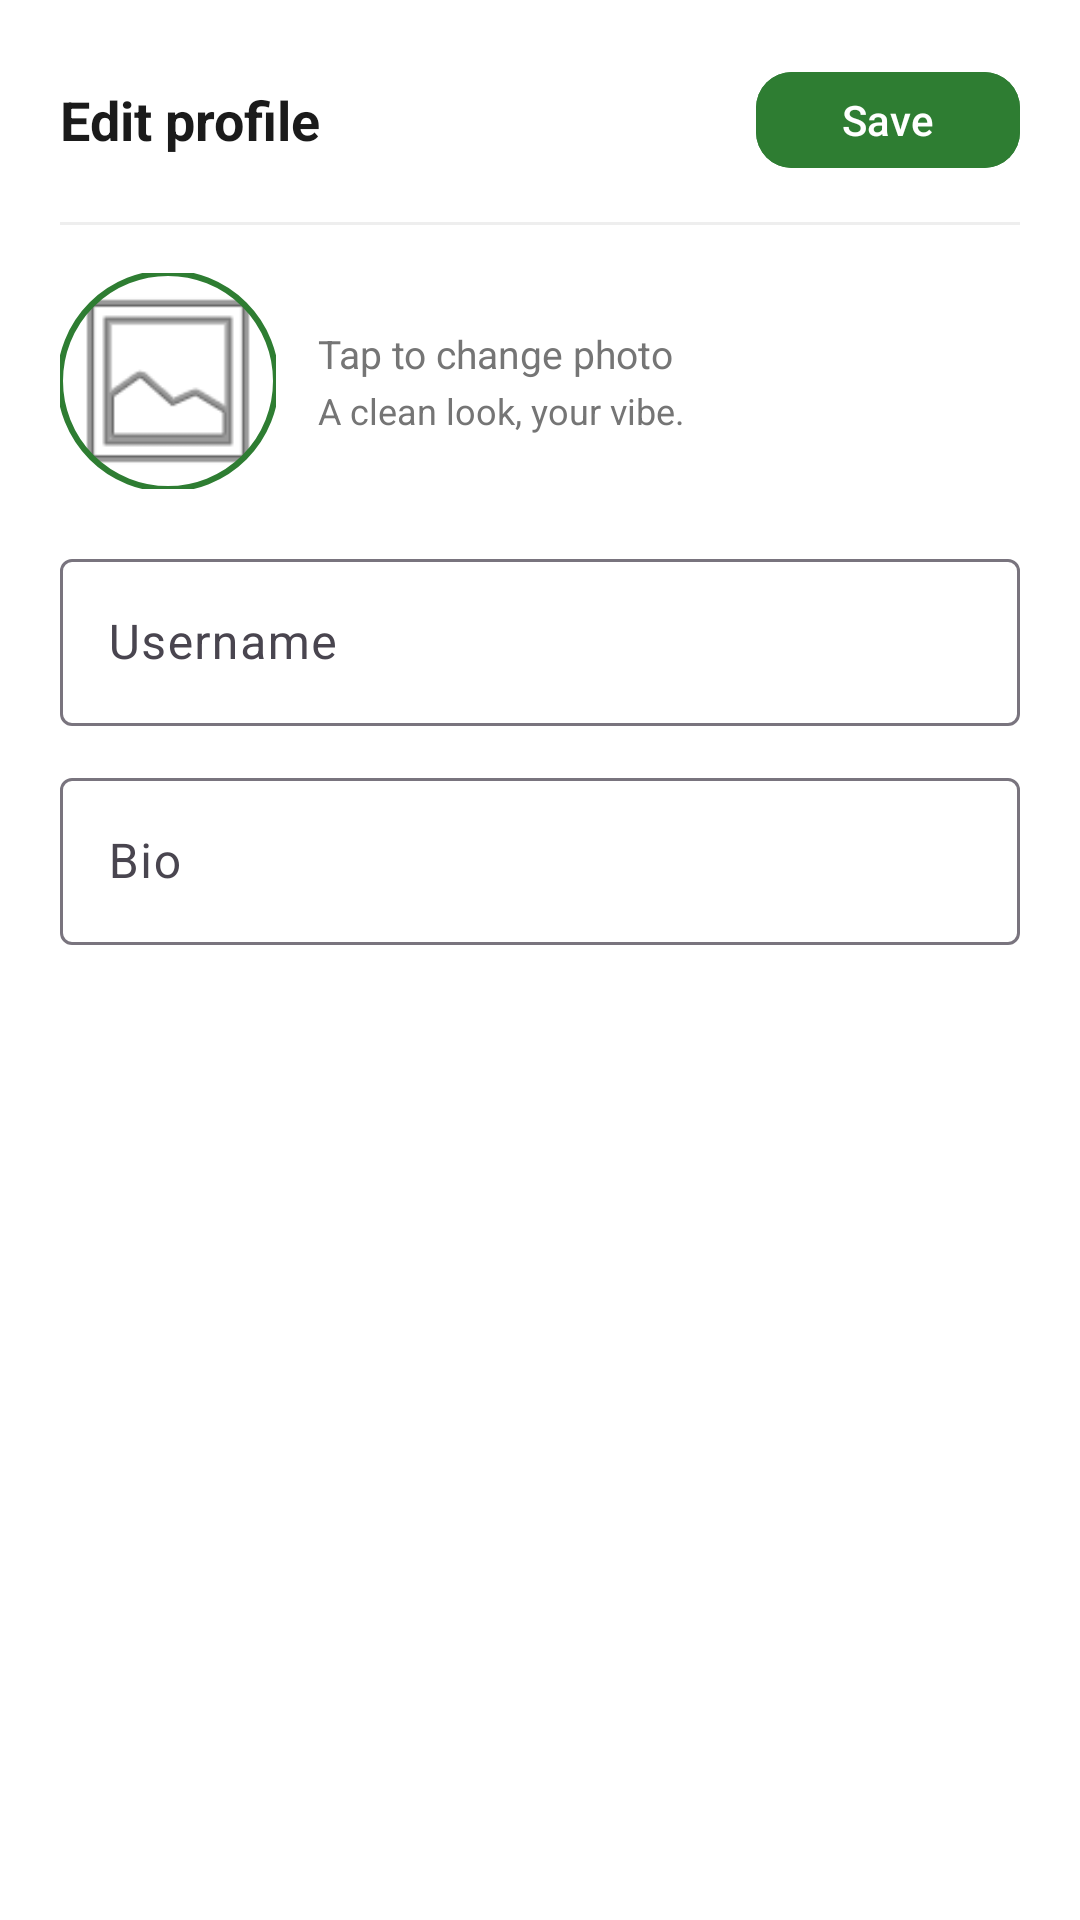

Named icons in this screenshot (1080w x 1920h) and their bounding boxes, bbox(x1, y1, x2, y2):
gallery: bbox(60, 273, 276, 489)
